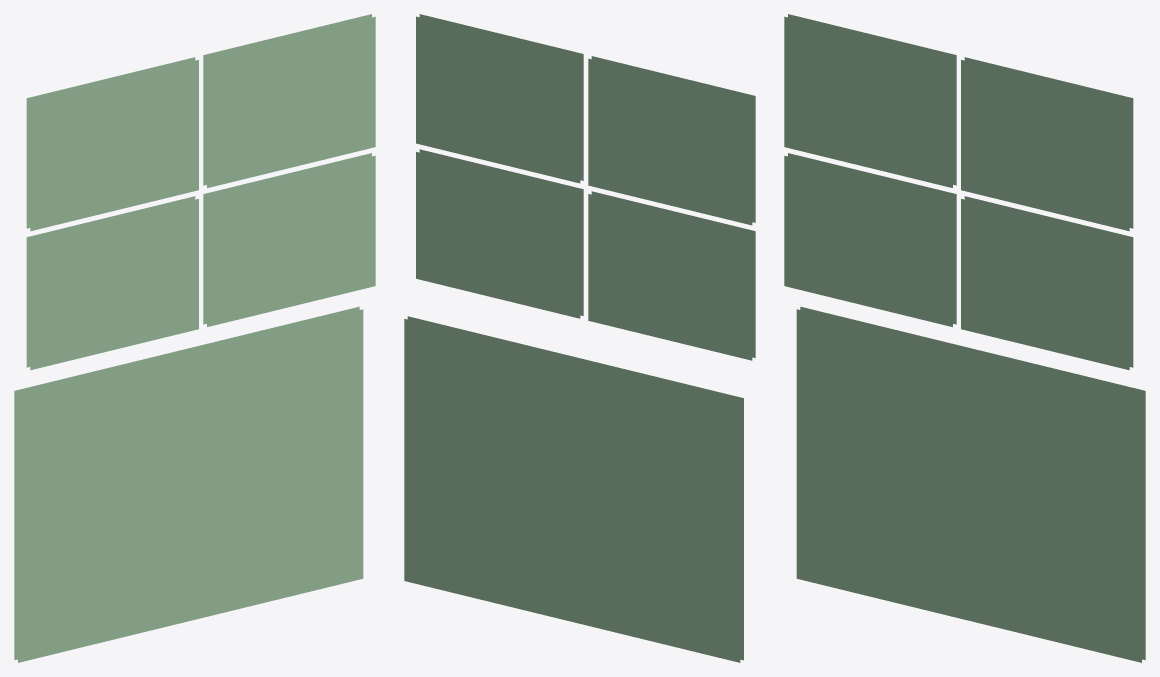
Rendered from SM_House_WindowGlass_B2.fbx.
3 renders of one model, left to right at view 1: azimuth 30°, elevation 25°; view 2: azimuth 150°, elevation 25°; view 3: azimuth 330°, elevation 25°, orthographic. The views are drawn at different scales.
Parts seen in each view (by area): view 1: SM_House_WindowGlass_B2; view 2: SM_House_WindowGlass_B2; view 3: SM_House_WindowGlass_B2.
Part boxes in pixels (x1,y1,x2,y2): SM_House_WindowGlass_B2: (14, 14, 375, 662); SM_House_WindowGlass_B2: (404, 14, 755, 662); SM_House_WindowGlass_B2: (784, 14, 1145, 662).
Bounding box in the file's own units: 55.2 × 4.4 × 87.2.
